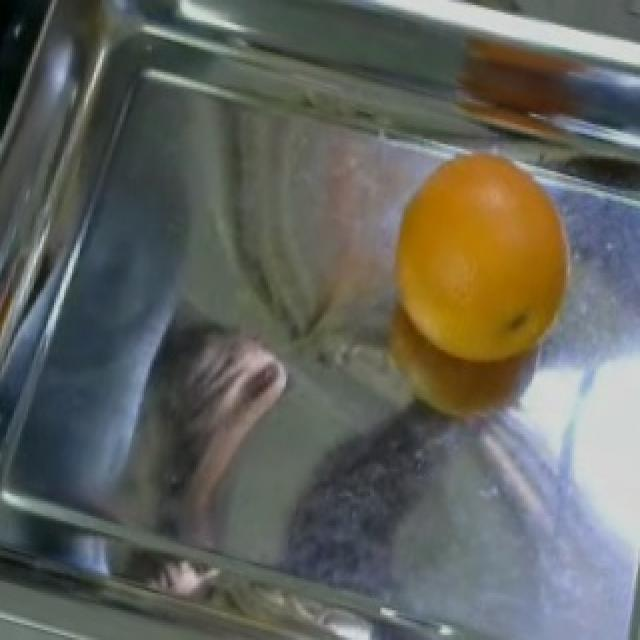Fruit: (364, 136, 590, 442), (102, 305, 310, 551)
